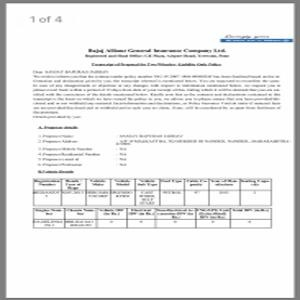table: (33, 177, 274, 206), (33, 207, 273, 230)
text: (35, 123, 296, 173), (31, 69, 282, 119), (84, 46, 232, 68)
